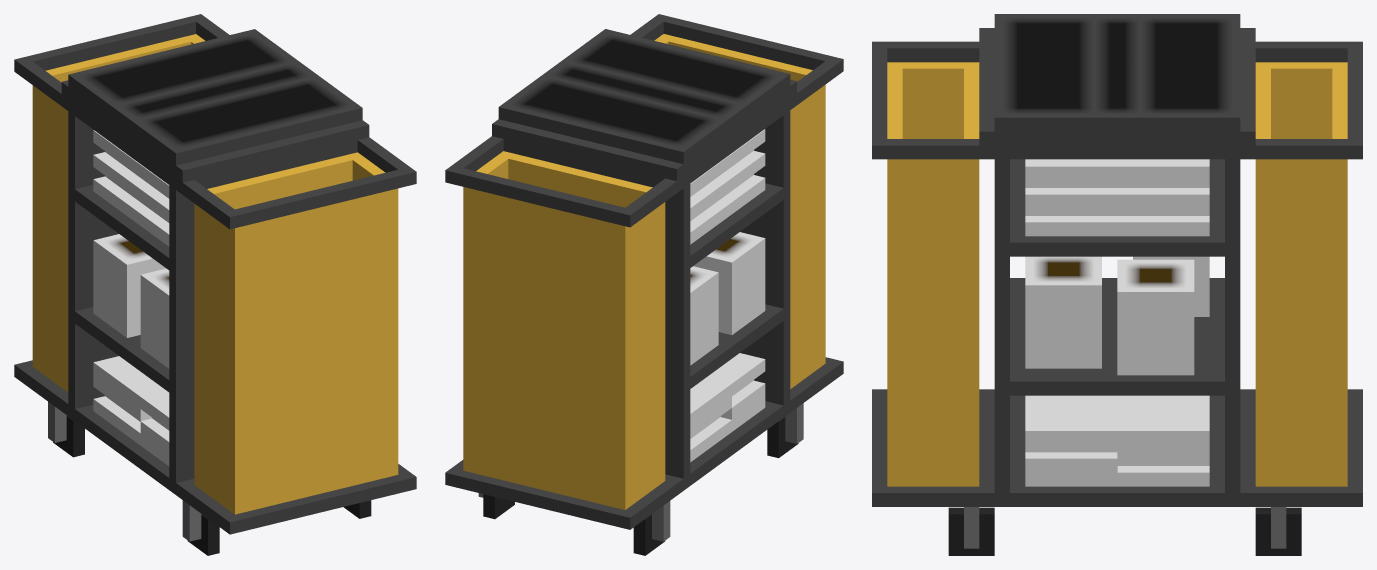
Rendered from CleaningTrolley01.fbx.
3 views of the same model, side by side, from view 1: azimuth 30°, elevation 25°; view 2: azimuth 150°, elevation 25°; view 3: azimuth 270°, elevation 25° (orthographic). The views are drawn at different scales.
Parts seen in each view (by area): view 1: Matrix; view 2: Matrix; view 3: Matrix.
Boxes of the visible parts, x1,y1,x2,y2 form: Matrix: [14, 14, 416, 555]; Matrix: [445, 14, 843, 555]; Matrix: [872, 14, 1362, 555].
Bounding box in the file's own units: 16 × 32 × 32.
